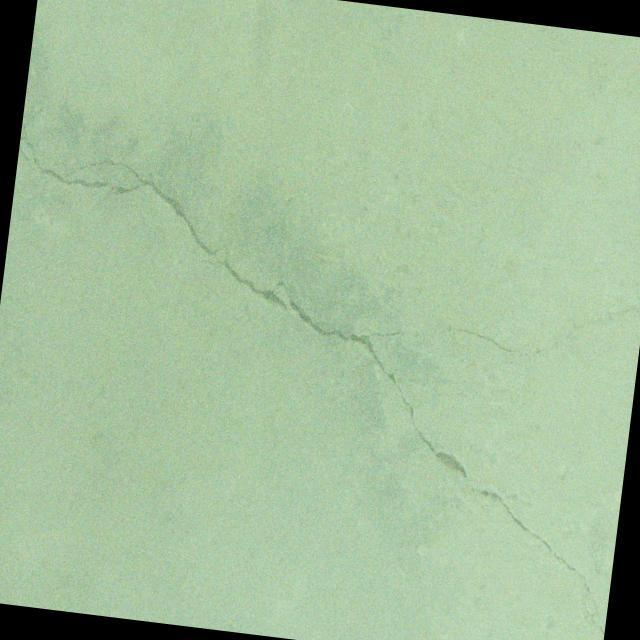crack: (0, 123, 640, 636), (445, 302, 596, 365)
